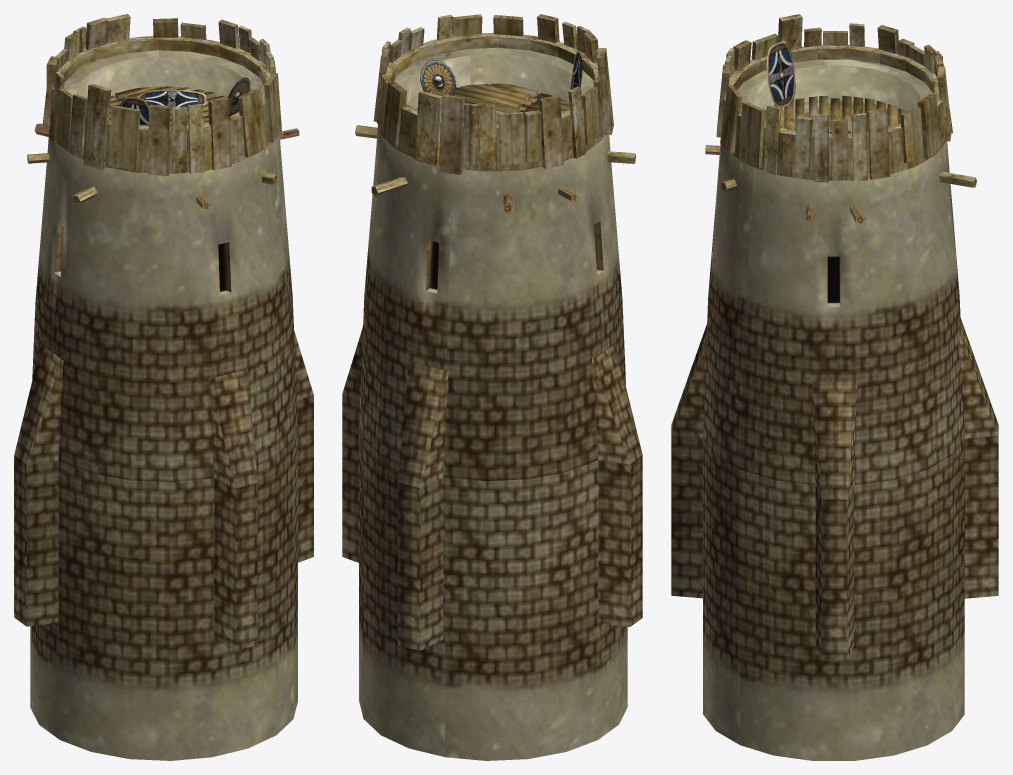
File: iber_wall_tower.glb
3 views of the same model, side by side, from view 1: azimuth 30°, elevation 25°; view 2: azimuth 150°, elevation 25°; view 3: azimuth 270°, elevation 25° (orthographic).
Parts seen in each view (by area): view 1: iber_wall_tower_part0, iber_wall_tower_part2; view 2: iber_wall_tower_part0, iber_wall_tower_part2; view 3: iber_wall_tower_part0, iber_wall_tower_part2.
Part boxes in pixels (<box>): iber_wall_tower_part0: <box>14,14,313,760</box>; iber_wall_tower_part2: <box>120,77,250,125</box>; iber_wall_tower_part0: <box>342,14,642,760</box>; iber_wall_tower_part2: <box>420,50,582,96</box>; iber_wall_tower_part0: <box>671,14,998,760</box>; iber_wall_tower_part2: <box>766,40,795,107</box>.
Size of the model in its own units: 2.2 by 4.79 by 2.2.
3 materials, 3 textured.
